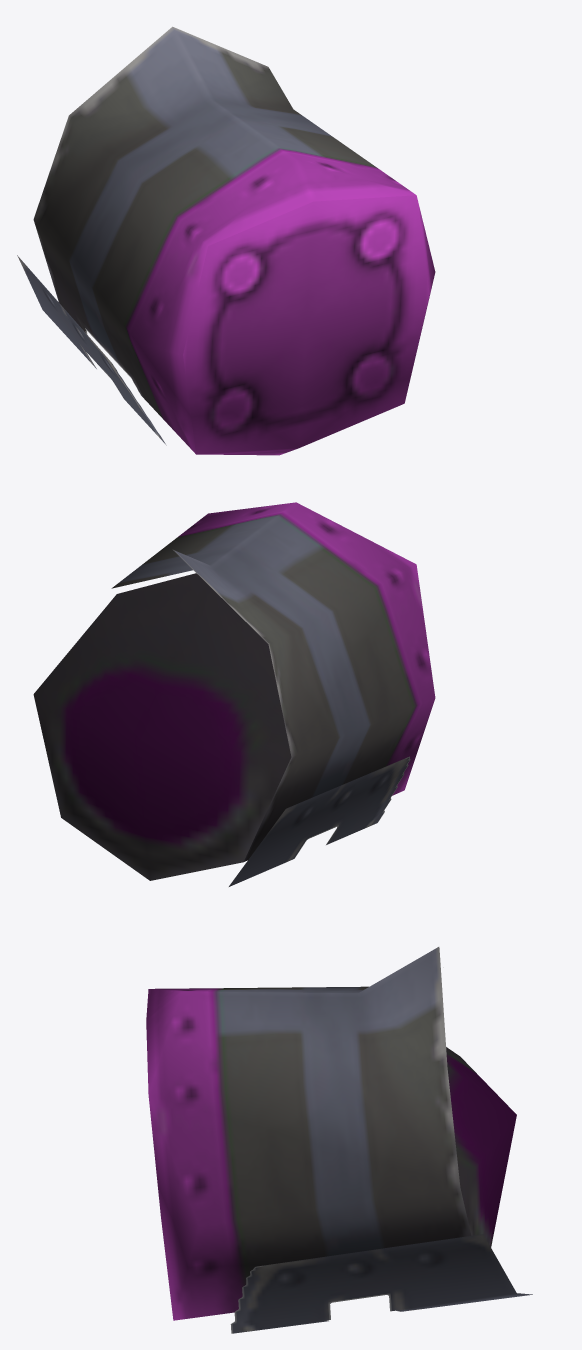
File: model_fire.glb
3 renders of one model, top to bottom at view 1: azimuth 30°, elevation 25°; view 2: azimuth 150°, elevation 25°; view 3: azimuth 270°, elevation 25°, orthographic. The views are drawn at different scales.
Parts seen in each view (by area): view 1: bucket.model-Mesh[0]; view 2: bucket.model-Mesh[0]; view 3: bucket.model-Mesh[0].
Part boxes in pixels (x1,y1,x2,y2): bucket.model-Mesh[0]: (17,26,435,455); bucket.model-Mesh[0]: (33,502,435,886); bucket.model-Mesh[0]: (146,947,532,1333).
Bounding box in the file's own units: 0.9045 × 0.6299 × 0.8217.
2 materials, 2 textured.
